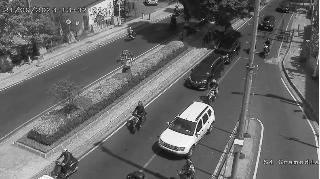mobil: (158, 102, 225, 158), (186, 54, 228, 91), (216, 38, 244, 66)
motor: (44, 153, 84, 177), (130, 98, 150, 134), (204, 78, 222, 106), (264, 38, 274, 62)
